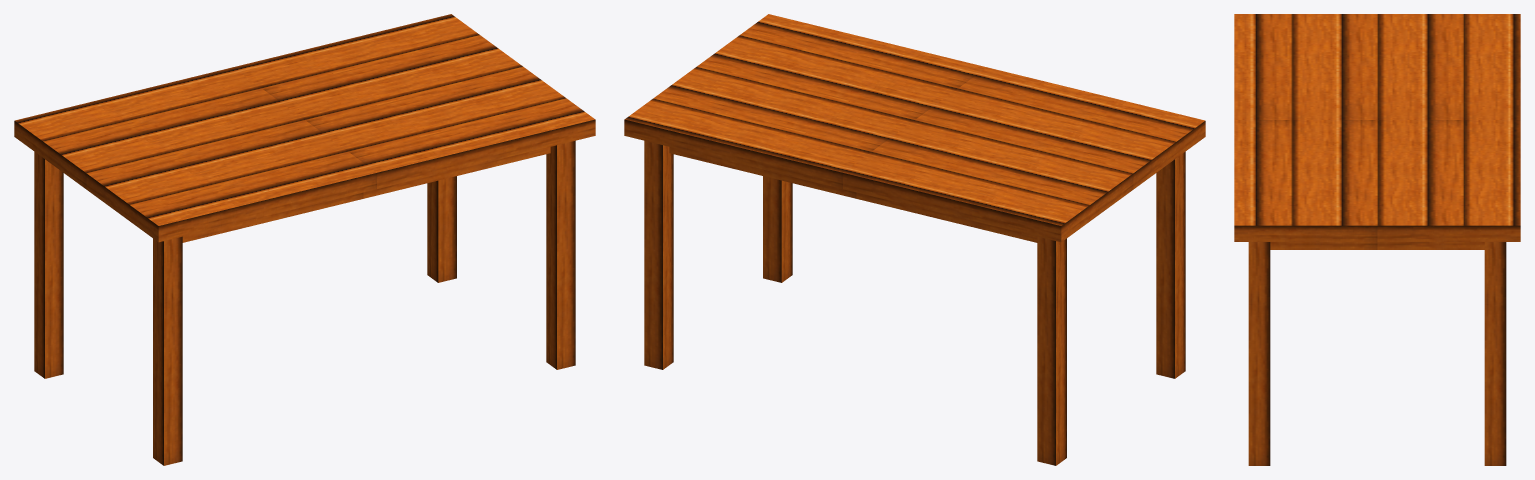
Rendered from Table.fbx.
3 views of the same model, side by side, from view 1: azimuth 30°, elevation 25°; view 2: azimuth 150°, elevation 25°; view 3: azimuth 270°, elevation 25° (orthographic).
Visible parts, largest first — view 1: Table; view 2: Table; view 3: Table.
Boxes of the visible parts, x1=… form: Table: x1=14, y1=14, x2=595, y2=465; Table: x1=624, y1=14, x2=1205, y2=465; Table: x1=1234, y1=14, x2=1520, y2=465.
Size of the model in its own units: 1.4 by 0.76 by 0.8.
